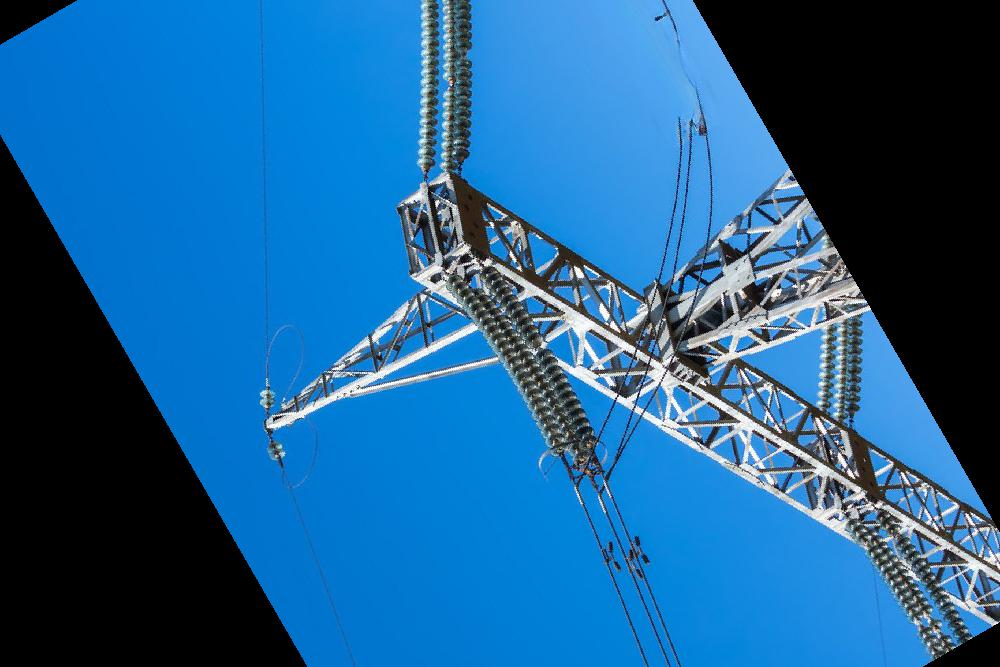insulator: (475, 265, 603, 470), (443, 273, 569, 460), (841, 516, 955, 661), (879, 515, 975, 647), (436, 1, 477, 175), (813, 306, 870, 422), (413, 1, 442, 173), (251, 386, 281, 414), (262, 439, 288, 467)
insulator_stringdrop: (523, 331, 555, 365), (439, 69, 463, 102), (852, 531, 880, 559), (885, 522, 912, 551), (907, 609, 933, 639), (919, 603, 943, 635), (452, 39, 475, 70)
